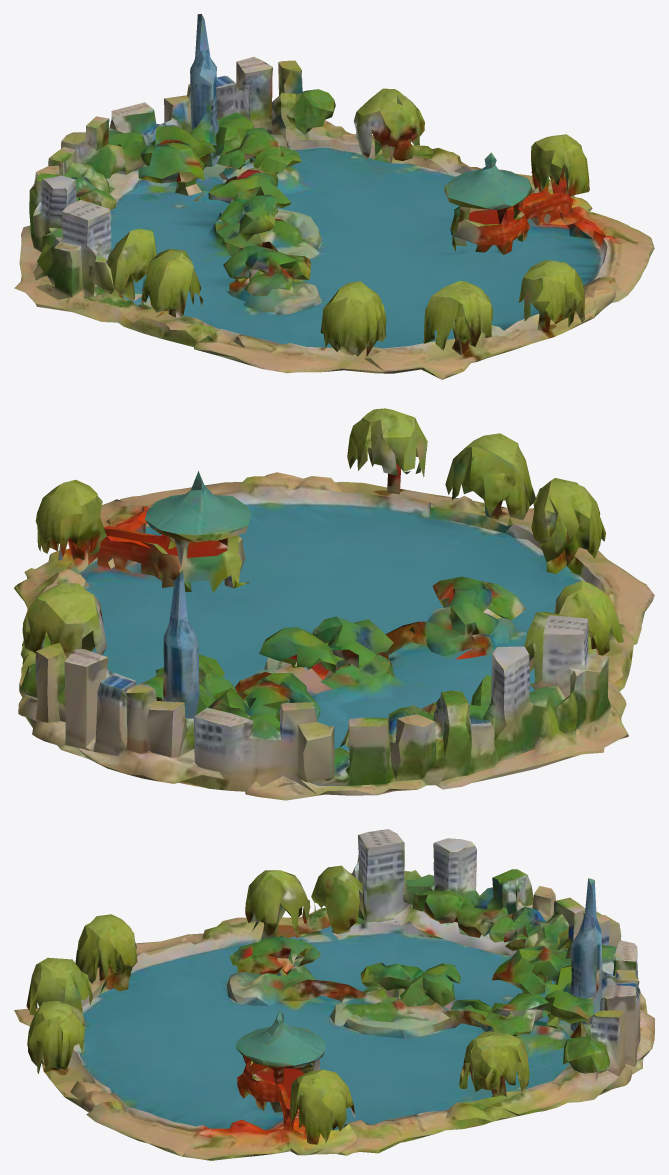
The model's file is ohori-park.glb.
3 views of the same model, one above another, from view 1: azimuth 30°, elevation 25°; view 2: azimuth 150°, elevation 25°; view 3: azimuth 270°, elevation 25° (orthographic). The views are drawn at different scales.
Parts seen in each view (by area): view 1: logan-textured.obj; view 2: logan-textured.obj; view 3: logan-textured.obj.
Part boxes in pixels (bbox=[...]): logan-textured.obj: bbox=[14, 14, 654, 379]; logan-textured.obj: bbox=[14, 408, 654, 800]; logan-textured.obj: bbox=[14, 829, 654, 1160].
Size of the model in its own units: 0.9749 by 0.2666 by 1.
Materials: 1 (1 with a texture image).
